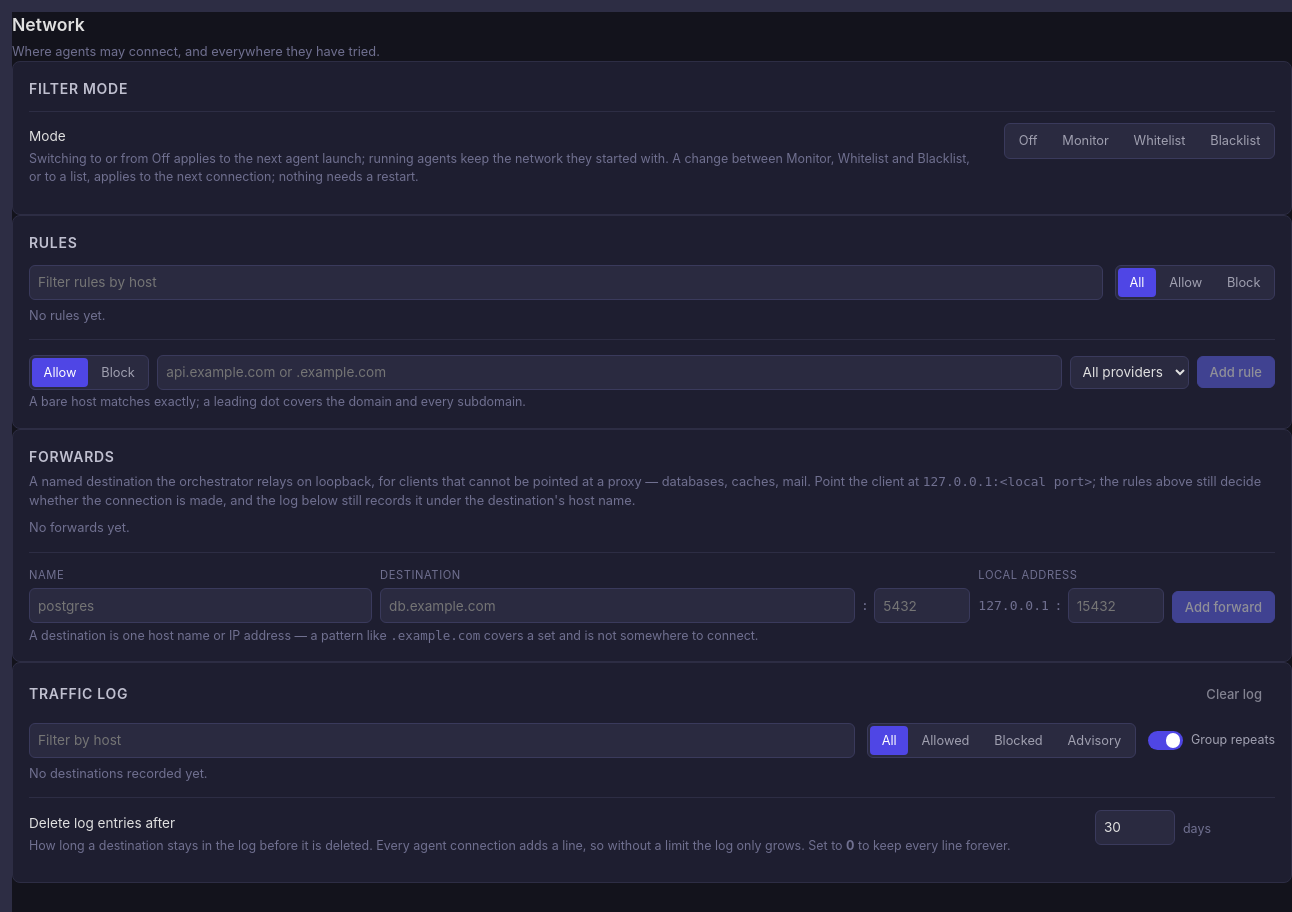
it: Network settings › spells out what the pattern being typed will match
Type ".example.com" into the field named "Host pattern" at (610, 372), box [157,355,1062,390]
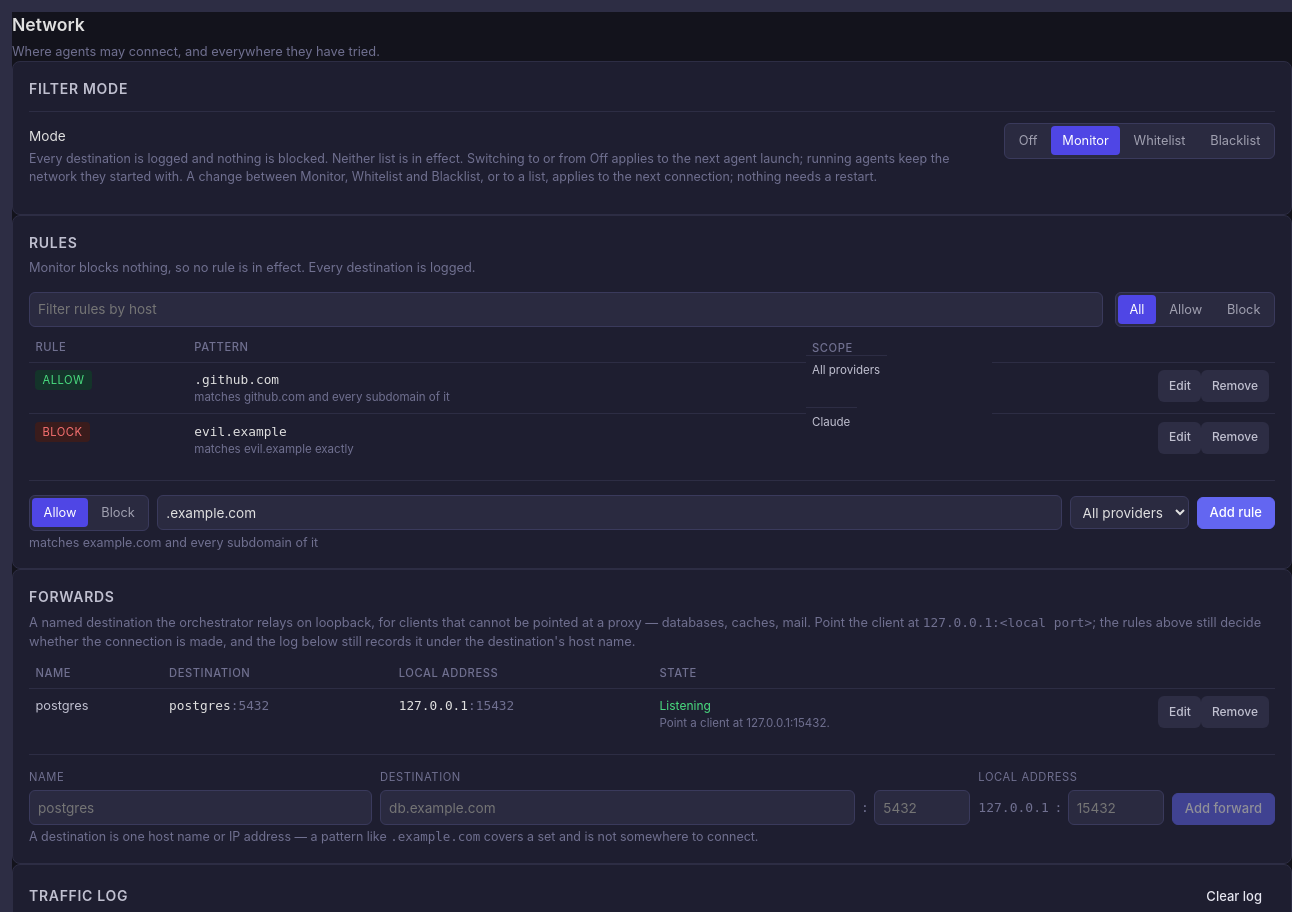
Check: the text "matches example.com and every subdomain of it" is shown, box [29,535,318,550]
